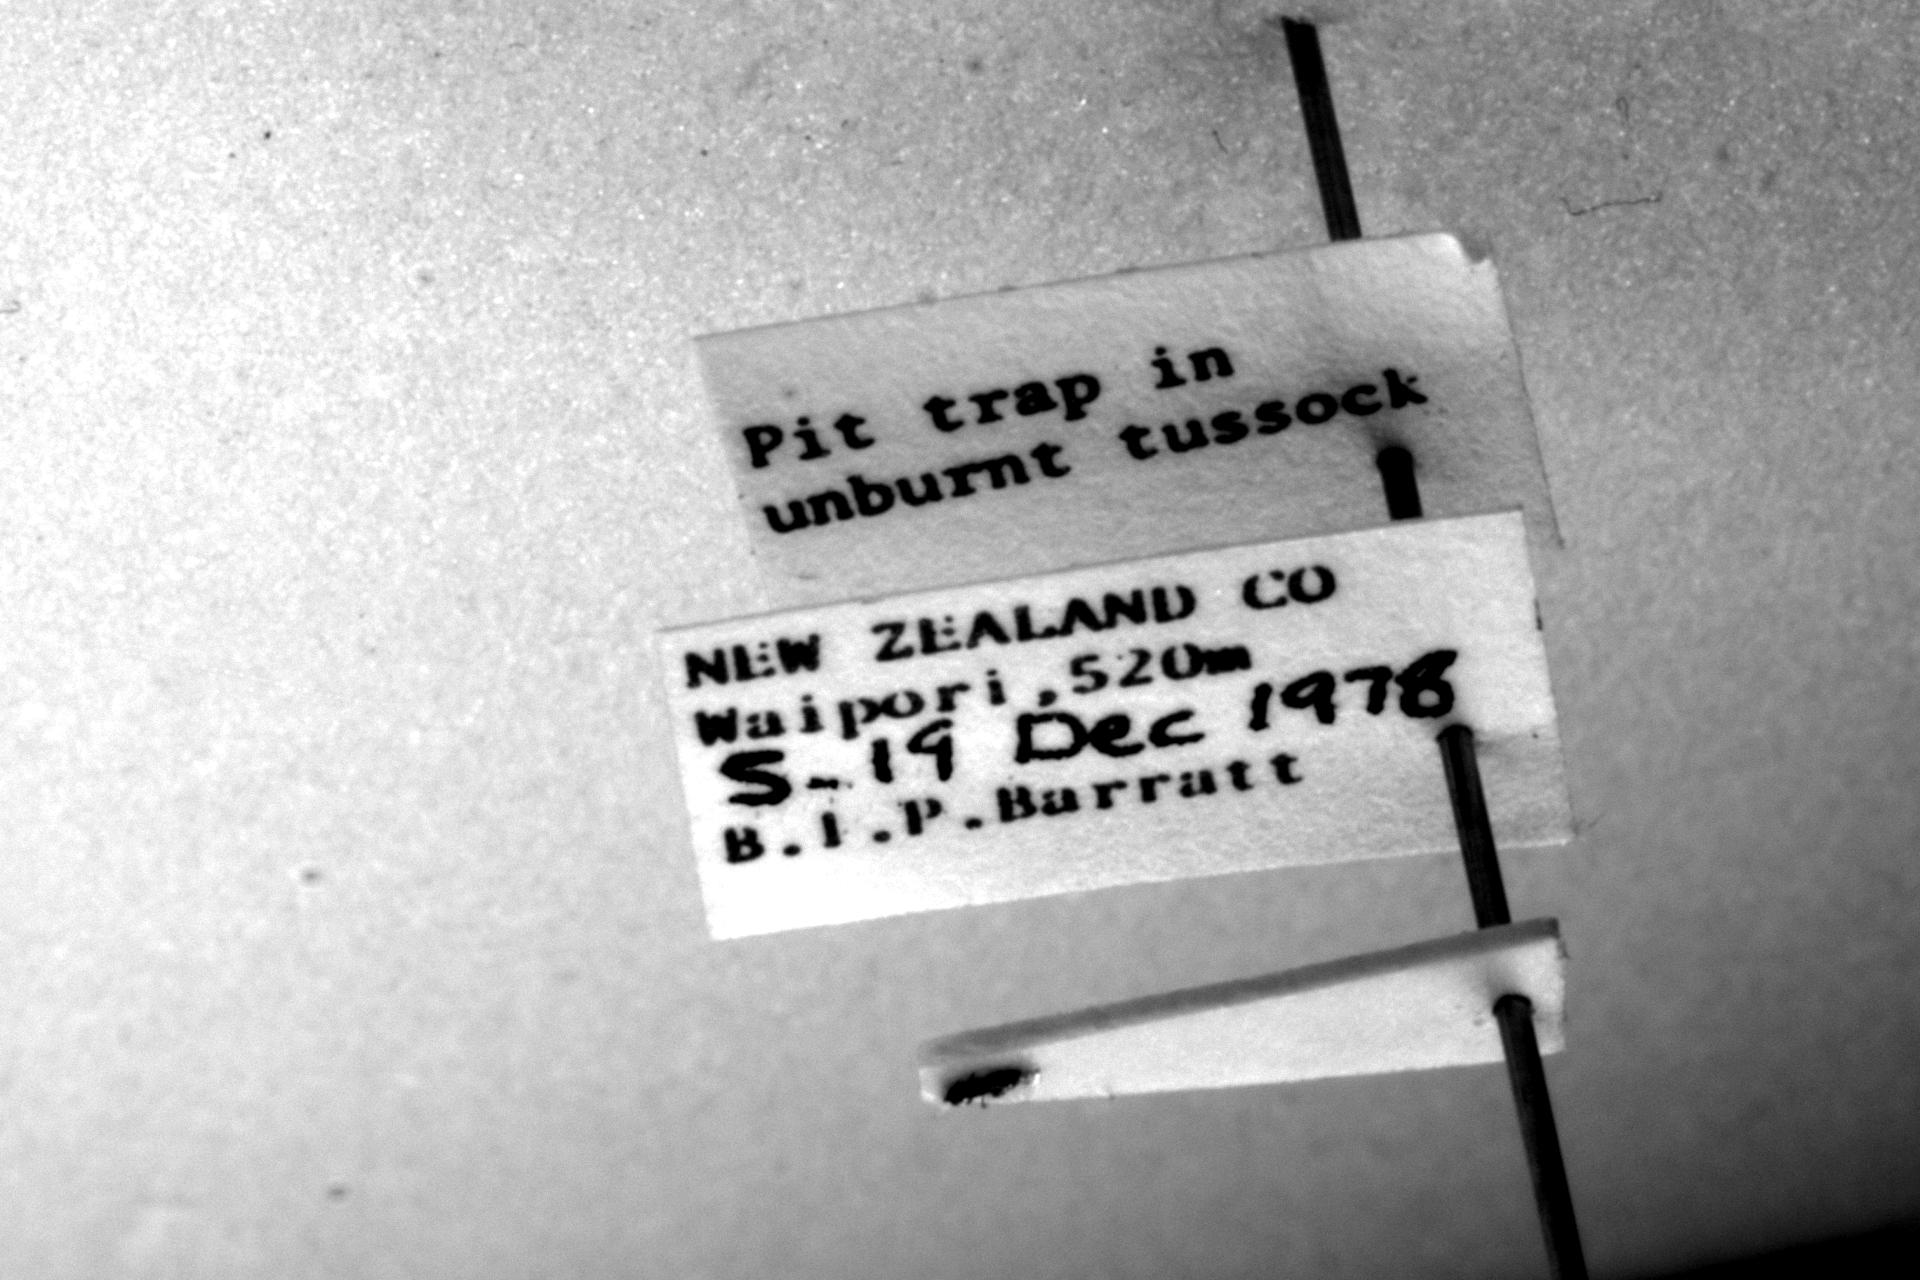mixed_label: (660, 514, 1571, 937)
typed_label: (697, 233, 1556, 607)
